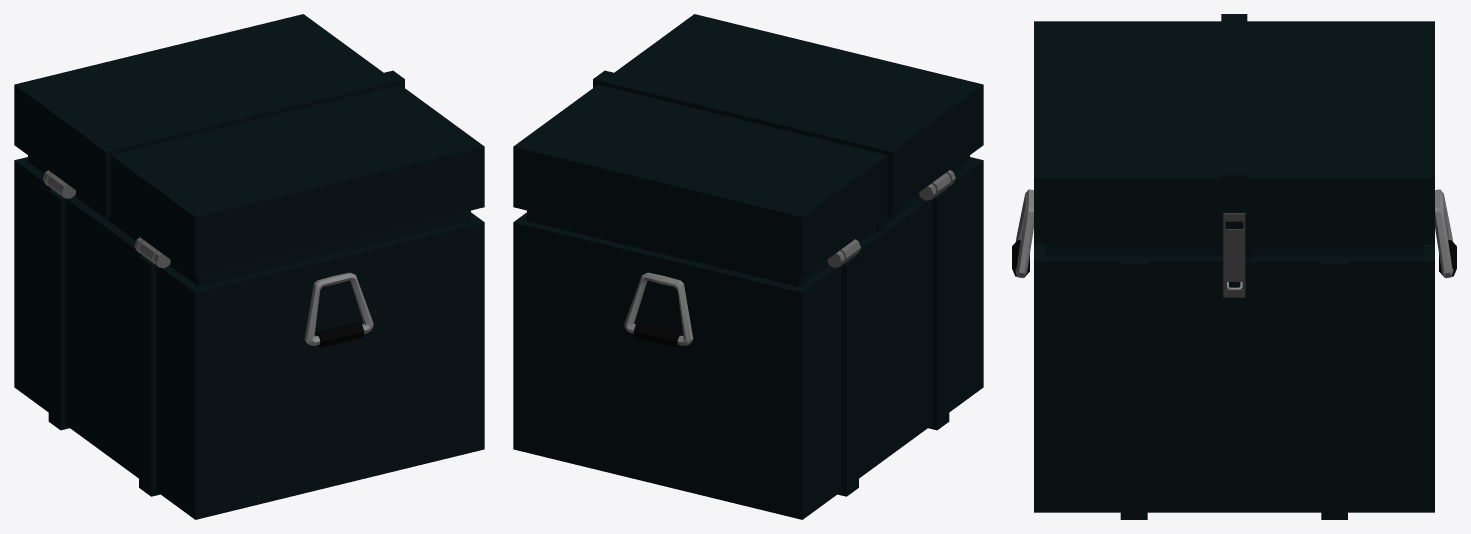
Rendered from StorageCrate_010.glb.
3 views of the same model, side by side, from view 1: azimuth 30°, elevation 25°; view 2: azimuth 150°, elevation 25°; view 3: azimuth 270°, elevation 25° (orthographic). The views are drawn at different scales.
Parts seen in each view (by area): view 1: Mesh_StorageCrate_010; view 2: Mesh_StorageCrate_010; view 3: Mesh_StorageCrate_010.
Boxes of the visible parts, x1,y1,x2,y2 form: Mesh_StorageCrate_010: (14,14,484,519); Mesh_StorageCrate_010: (513,14,983,519); Mesh_StorageCrate_010: (1012,14,1456,519).
Bounding box in the file's own units: 0.5335 × 0.5141 × 0.6017.
Materials: 1 (1 with a texture image).
